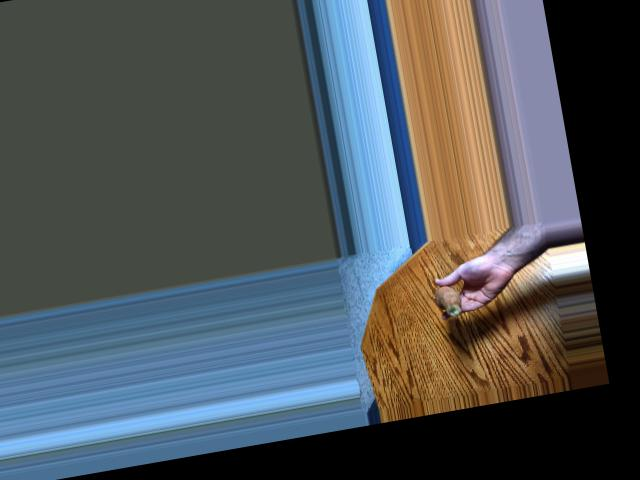sweet_potato: (422, 279, 463, 320)
